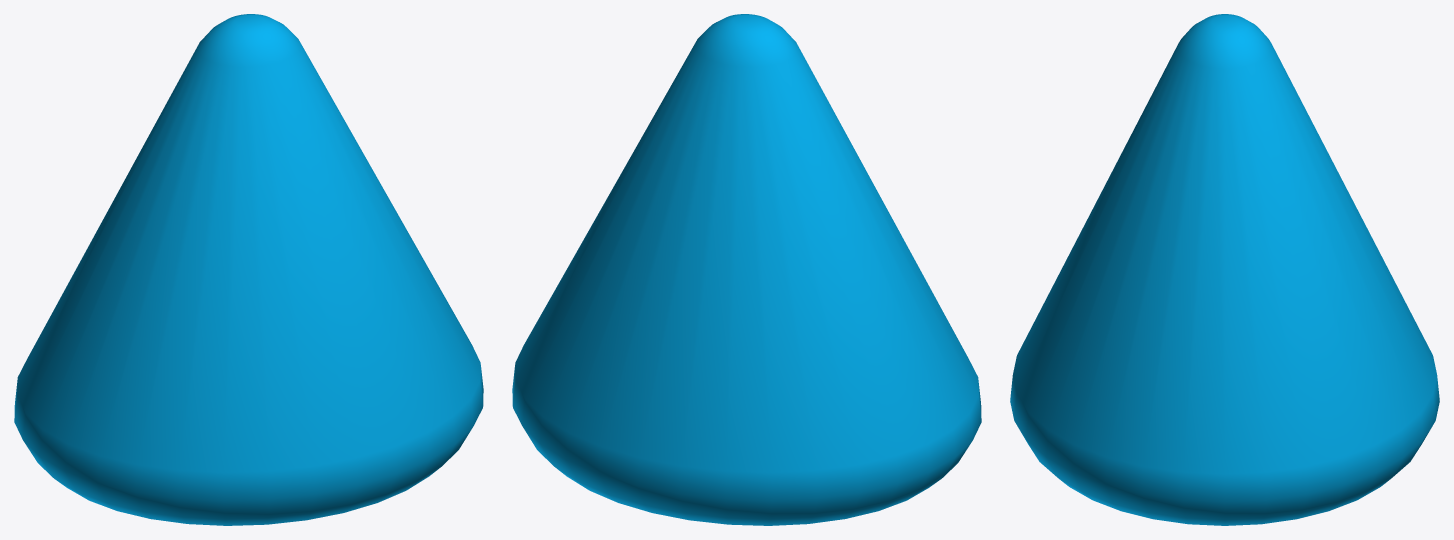
File: meep-body.glb
3 views of the same model, side by side, from view 1: azimuth 30°, elevation 25°; view 2: azimuth 150°, elevation 25°; view 3: azimuth 270°, elevation 25° (orthographic).
Visible parts, largest first — view 1: Cylinder; view 2: Cylinder; view 3: Cylinder.
Boxes of the visible parts, x1,y1,x2,y2 form: Cylinder: [14, 14, 483, 525]; Cylinder: [512, 14, 981, 525]; Cylinder: [1010, 14, 1439, 525].
Bounding box in the file's own units: 1.68 × 1.67 × 1.52.
